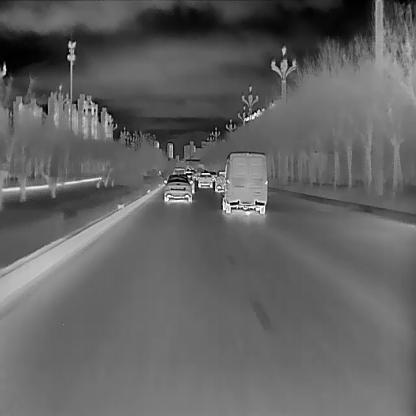car: (221, 151, 267, 215), (163, 173, 191, 202), (214, 171, 226, 192), (197, 172, 213, 187)
